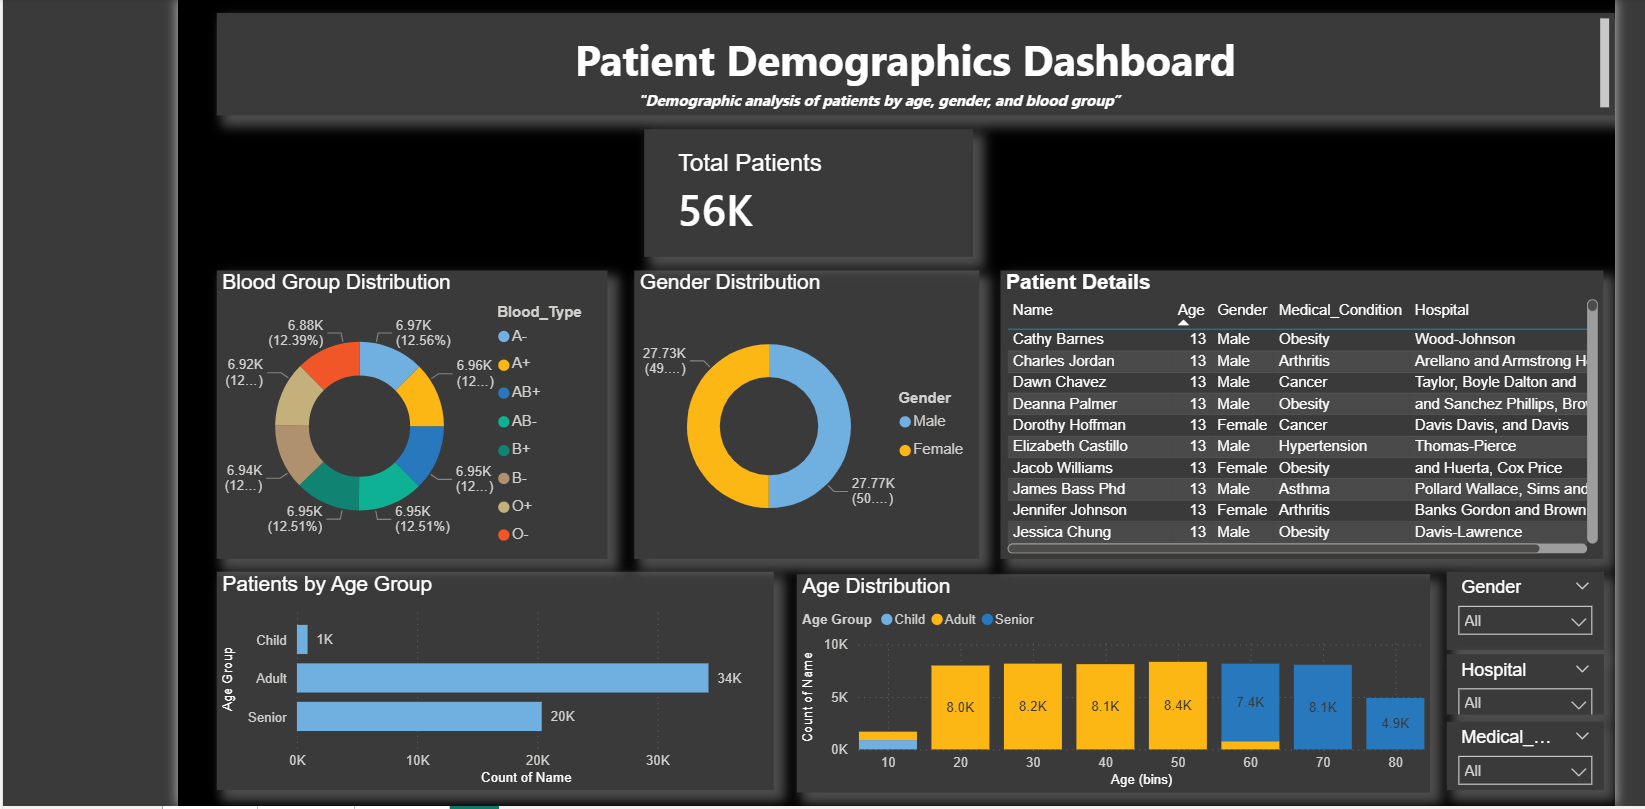

What the dashboard file says about the page in this screenshot:
{"tool":"powerbi","page":{"name":"Page 2","canvas":[1280,720],"ordinal":1},"visuals":[{"type":"barChart","title":"Patients by Age Group","fields":{"Y":["CountNonNull(Healthcare_data.Name)"],"Category":["Healthcare_data.Age Group"]},"box":[34.6,510.7,496.3,194.8],"z":0},{"type":"donutChart","title":" Gender Distribution","fields":{"Category":["Healthcare_data.Gender"],"Y":["CountNonNull(Healthcare_data.Name)"]},"box":[406.9,242.4,307.3,256.8],"z":1000},{"type":"donutChart","title":"Blood Group Distribution","fields":{"Category":["Healthcare_data.Blood_Type"],"Y":["CountNonNull(Healthcare_data.Name)"]},"box":[34.6,242.4,347.7,256.8],"z":2000},{"type":"columnChart","title":" Age Distribution","fields":{"Category":["Healthcare_data.Age (bins)"],"Y":["CountNonNull(Healthcare_data.Name)"],"Series":["Healthcare_data.Age Group"]},"box":[551.1,513.6,564.1,194.8],"z":3000},{"type":"textbox","box":[34.6,13,1245.1,90.9],"z":4000},{"type":"cardVisual","fields":{"Data":["Healthcare_data.Total Patients"]},"box":[415.5,116.9,292.9,114],"z":5000},{"type":"tableEx","title":"                              Patient Details","fields":{"Values":["Healthcare_data.Name","Healthcare_data.Age","Healthcare_data.Gender","Healthcare_data.Medical_Condition","Healthcare_data.Hospital"]},"box":[732.9,242.4,536.7,256.8],"z":6000},{"type":"slicer","fields":{"Values":["Healthcare_data.Gender"]},"box":[1129.7,510.7,139.9,69.3],"z":7000},{"type":"slicer","fields":{"Values":["Healthcare_data.Hospital"]},"box":[1129.7,584.3,139.9,53.4],"z":8000},{"type":"slicer","fields":{"Values":["Healthcare_data.Medical_Condition"]},"box":[1129.7,644.9,139.9,60.6],"z":9000}]}

Visuals, with their boxes on the page's 1280x720 design canvas (x1, y1, x2, y2). These are canvas units, not pixel positions in the 1645x809 screenshot, which may show the page scaled, cropped or inside an application window:
"Patients by Age Group" barChart: {"left": 35, "top": 511, "right": 531, "bottom": 706}
" Gender Distribution" donutChart: {"left": 407, "top": 242, "right": 714, "bottom": 499}
"Blood Group Distribution" donutChart: {"left": 35, "top": 242, "right": 382, "bottom": 499}
" Age Distribution" columnChart: {"left": 551, "top": 514, "right": 1115, "bottom": 708}
textbox: {"left": 35, "top": 13, "right": 1280, "bottom": 104}
cardVisual - Healthcare_data.Total Patients: {"left": 416, "top": 117, "right": 708, "bottom": 231}
"                              Patient Details" tableEx: {"left": 733, "top": 242, "right": 1270, "bottom": 499}
slicer - Healthcare_data.Gender: {"left": 1130, "top": 511, "right": 1270, "bottom": 580}
slicer - Healthcare_data.Hospital: {"left": 1130, "top": 584, "right": 1270, "bottom": 638}
slicer - Healthcare_data.Medical_Condition: {"left": 1130, "top": 645, "right": 1270, "bottom": 706}
